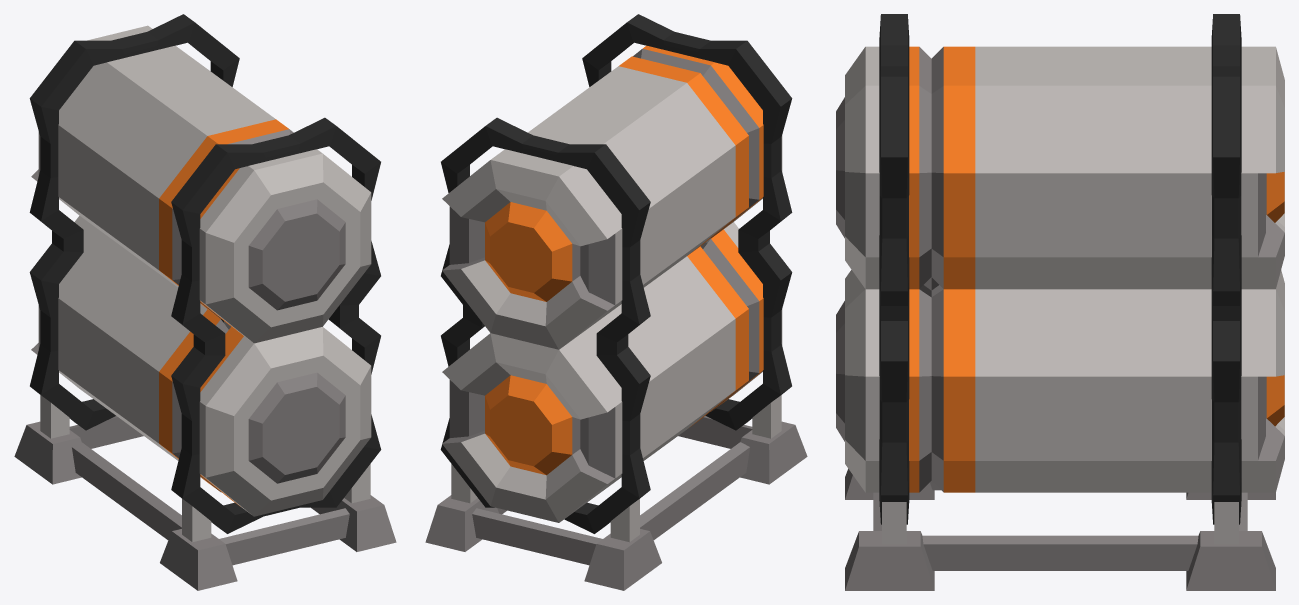
The model's file is scifi_scifi-vials-two-pack.fbx.
3 views of the same model, side by side, from view 1: azimuth 30°, elevation 25°; view 2: azimuth 150°, elevation 25°; view 3: azimuth 270°, elevation 25° (orthographic). The views are drawn at different scales.
Parts seen in each view (by area): view 1: scifi_scifi_vials_two_pack; view 2: scifi_scifi_vials_two_pack; view 3: scifi_scifi_vials_two_pack.
Part boxes in pixels (x1,y1,x2,y2): scifi_scifi_vials_two_pack: (14, 14, 396, 590); scifi_scifi_vials_two_pack: (425, 14, 807, 590); scifi_scifi_vials_two_pack: (836, 14, 1284, 590).
Bounding box in the file's own units: 99.89 × 200 × 166.
